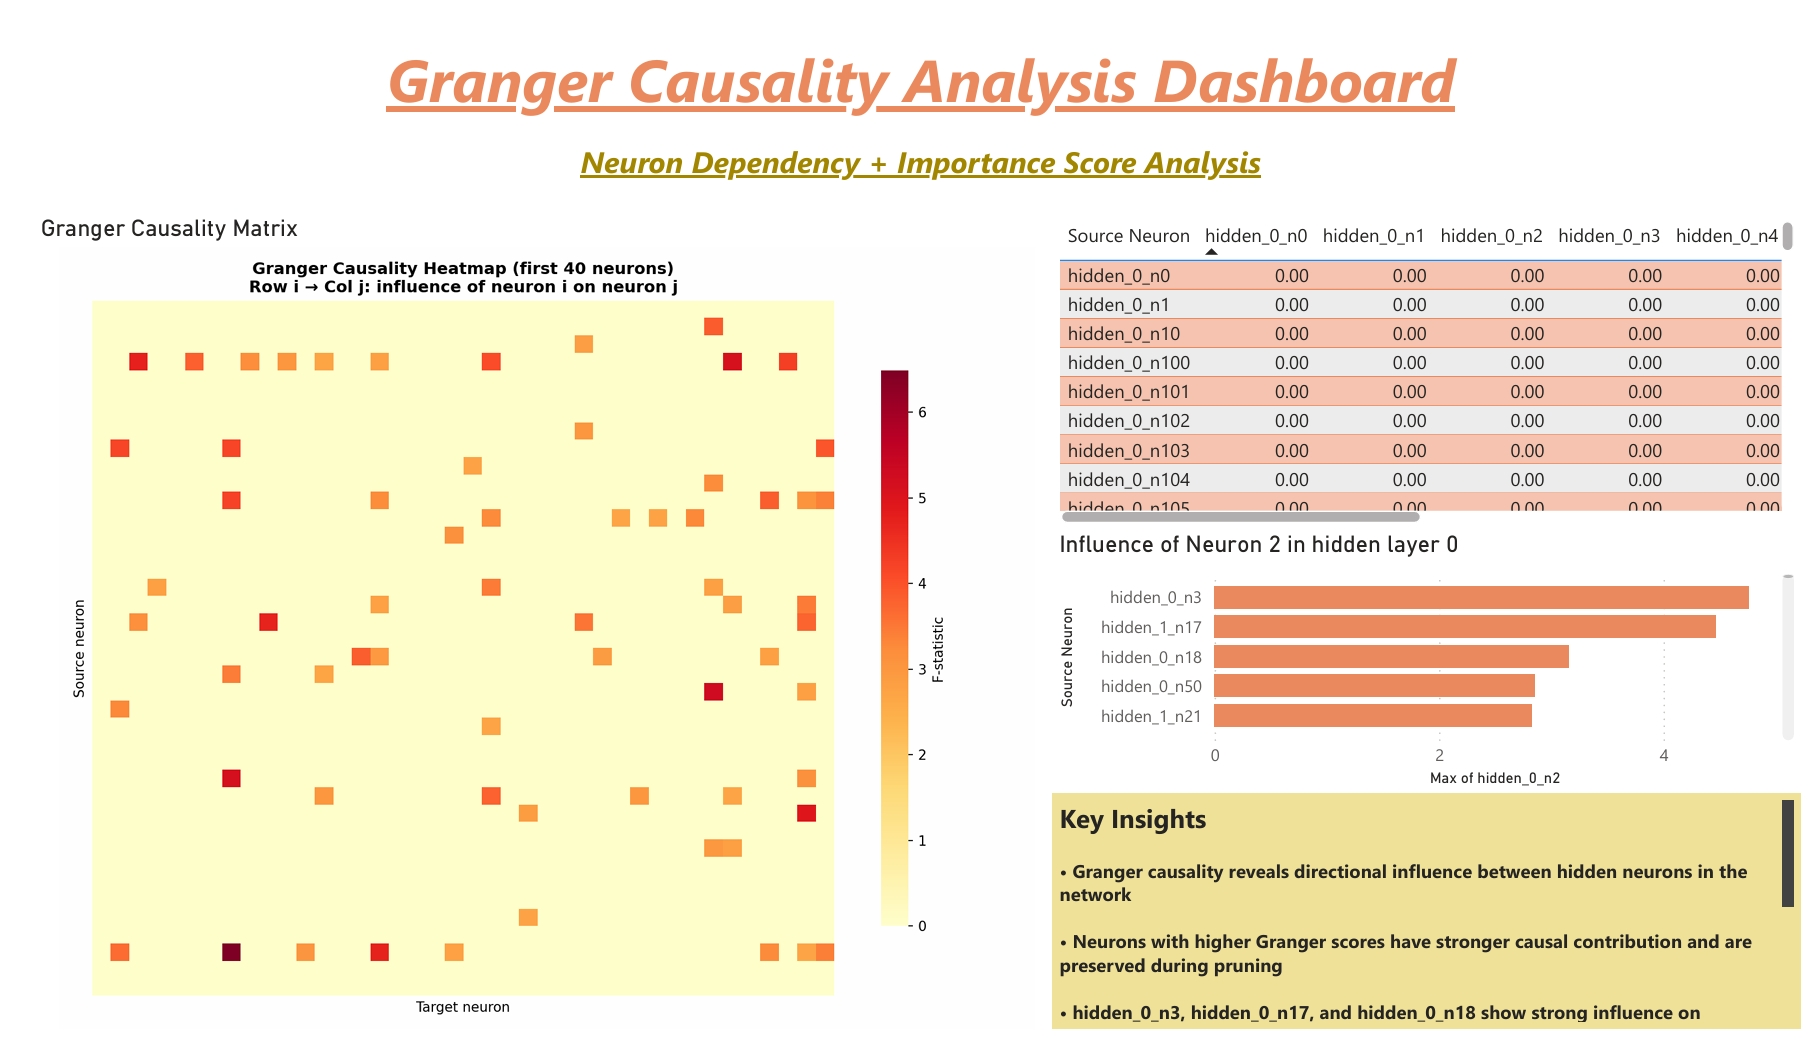

This screenshot's page, from the dashboard's own definition file:
{"tool":"powerbi","page":{"name":"Granger Causality Analysis Dashboard","canvas":[1280,720],"ordinal":1},"visuals":[{"type":"textbox","box":[10,0,1270,132],"z":0},{"type":"image","title":"Granger Causality Matrix","box":[10,132,730,588],"z":1},{"type":"tableEx","fields":{"Values":["granger_matrix_filtered.Source Neuron","granger_matrix_filtered.hidden_0_n0","granger_matrix_filtered.hidden_0_n1","granger_matrix_filtered.hidden_0_n2","granger_matrix_filtered.hidden_0_n3","granger_matrix_filtered.hidden_0_n4","granger_matrix_filtered.hidden_0_n5","granger_matrix_filtered.hidden_0_n6","granger_matrix_filtered.hidden_0_n7","granger_matrix_filtered.hidden_0_n8","granger_matrix_filtered.hidden_0_n9","granger_matrix_filtered.hidden_0_n10"]},"box":[740,132,540,228],"z":2},{"type":"clusteredBarChart","title":"Influence of Neuron 2 in hidden layer 0","fields":{"Category":["granger_matrix_filtered.Source Neuron"],"Y":["Max(granger_matrix_filtered.hidden_0_n2)"]},"box":[740,360,540,190],"z":3},{"type":"textbox","box":[740,550,540,170],"z":4}]}

Visuals, with their boxes in screenshot pixels (x1, y1, x2, y2), scaled from the page's 1280x720 canvas onto the 1812x1042 screenshot:
textbox: bbox=(14, 0, 1811, 191)
"Granger Causality Matrix" image: bbox=(14, 191, 1048, 1041)
tableEx - granger_matrix_filtered.Source Neuron x granger_matrix_filtered.hidden_0_n0: bbox=(1048, 191, 1811, 521)
"Influence of Neuron 2 in hidden layer 0" clusteredBarChart: bbox=(1048, 521, 1811, 796)
textbox: bbox=(1048, 796, 1811, 1041)
